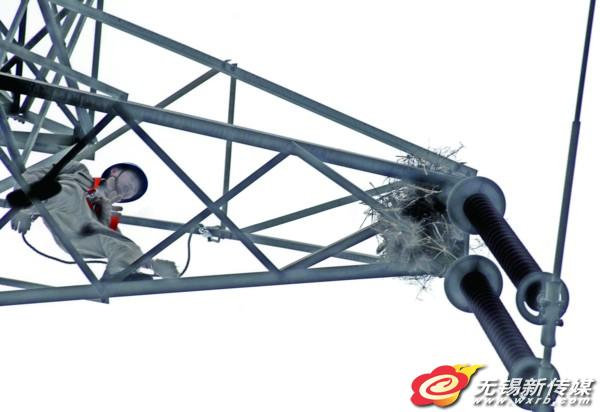bird-nest: (376, 177, 457, 262)
